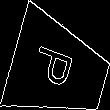P_E: (34, 44, 85, 96)
